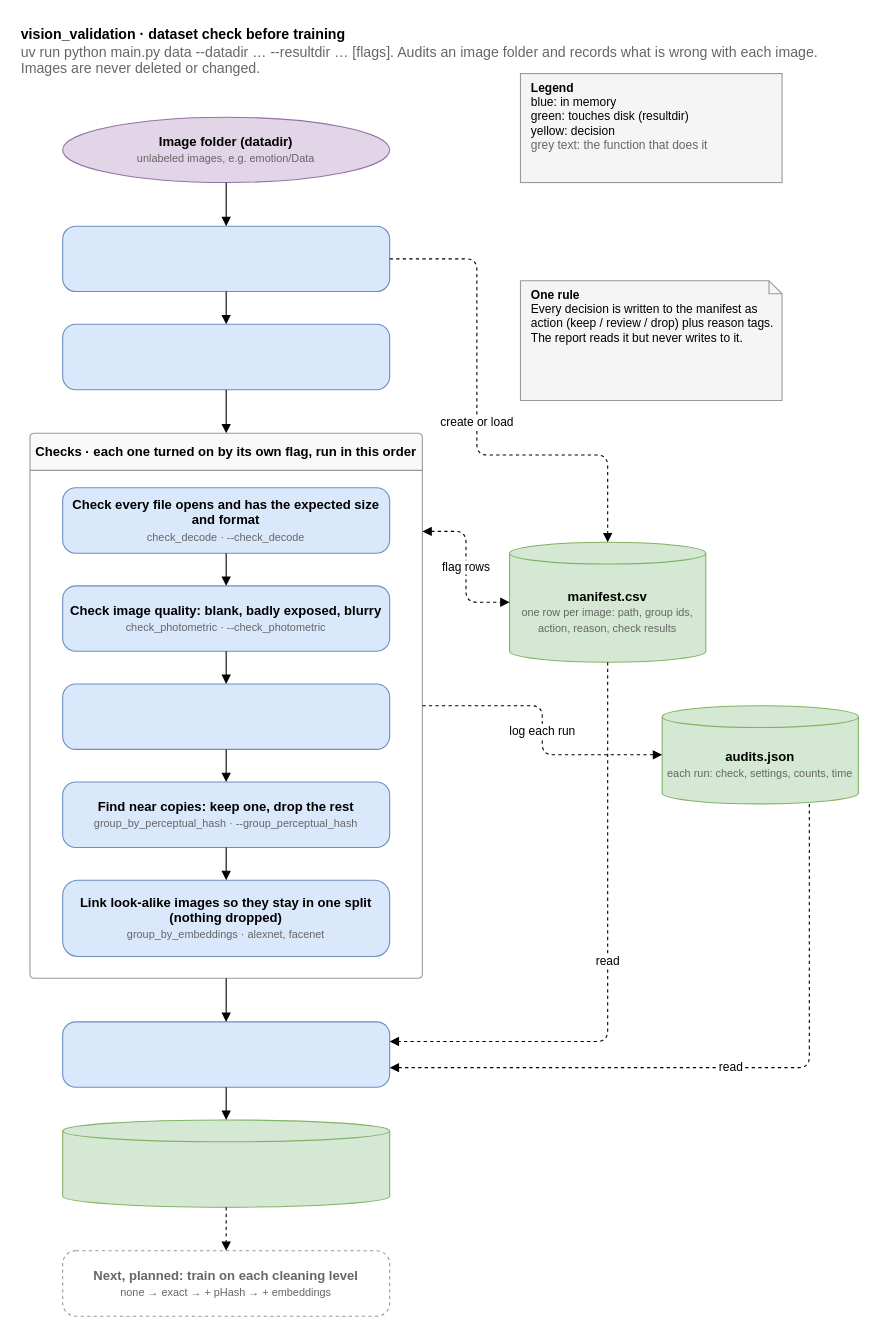
Some shapes in this 877 by 1335 pixel diagram are drawn without their labels. Each missing label, with the centre of its shape:
"Find exact copies: keep one, drop the rest group_by_hash · --group_hash" belongs at pixel 226 716.
"Index the files: one manifest row per image ImageDataset" belongs at pixel 226 258.
"Optionally start over: clear every flag restart · --restart" belongs at pixel 226 356.
"report/ summary (html, md) · review sheet · CSVs · validation_report.json" belongs at pixel 226 1163.
"Write a read-only report generate_report · --report" belongs at pixel 226 1054.
